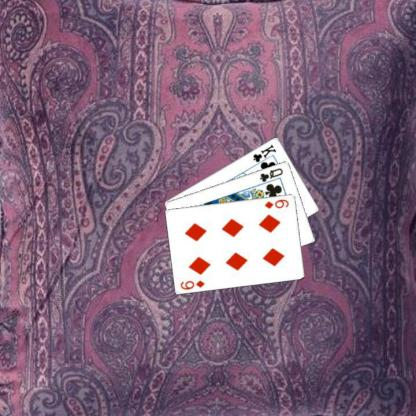6D: (262, 196, 290, 210), (178, 278, 206, 291)
KC: (251, 142, 277, 168)
QC: (257, 165, 284, 183)
